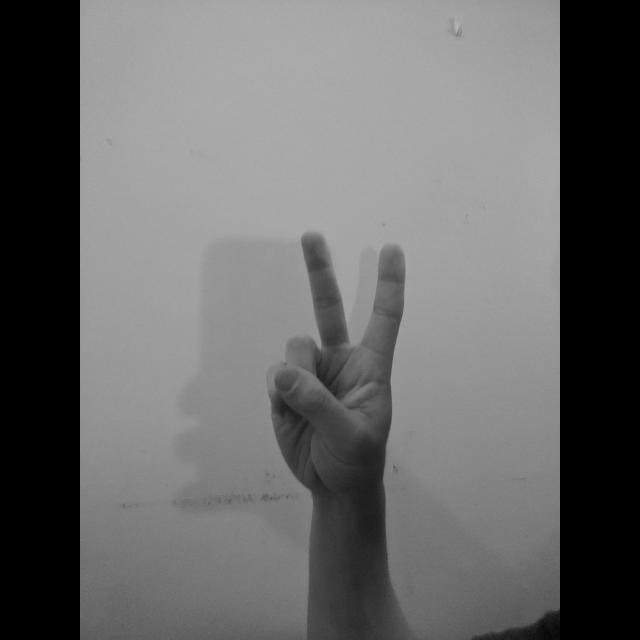V: (261, 225, 411, 495)
